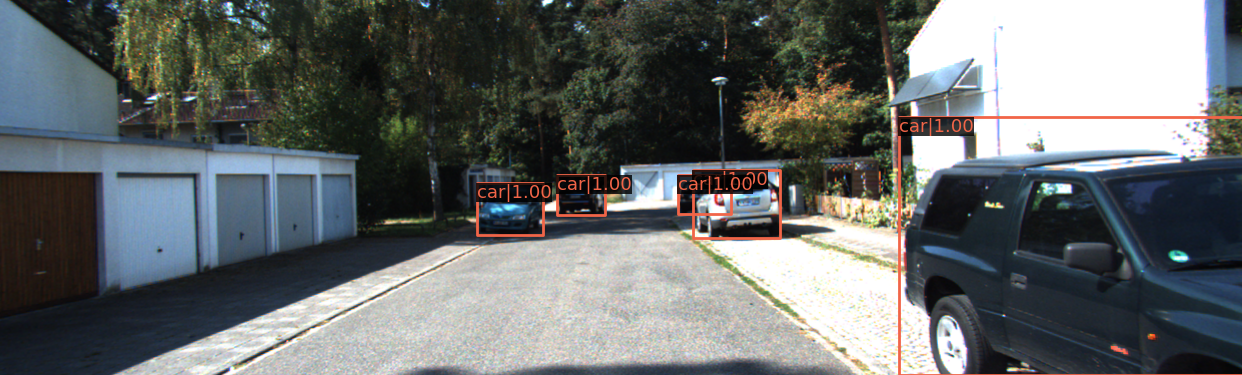car: (894, 114, 1242, 375), (693, 173, 780, 242), (478, 184, 539, 232), (678, 178, 731, 213), (558, 181, 605, 216)
